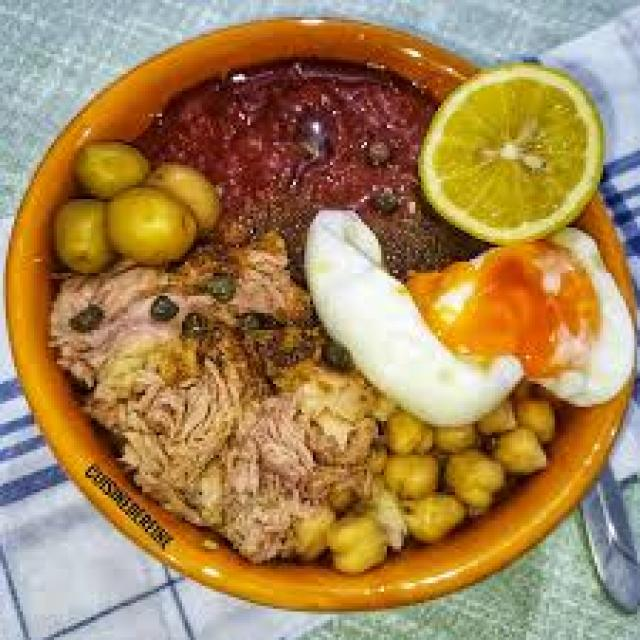Lablabi: (16, 10, 623, 575)
